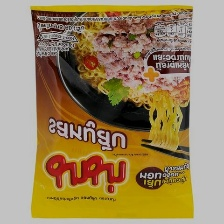snack: (23, 0, 199, 224)
